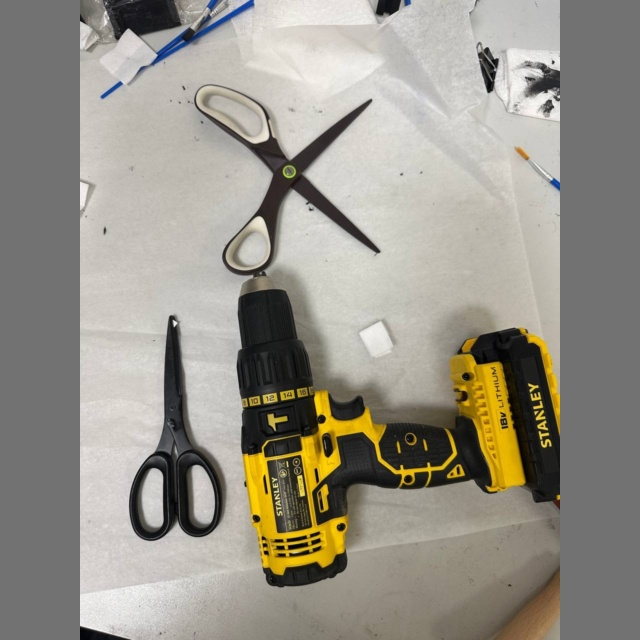drill: (237, 276, 560, 586)
scissor: (194, 84, 379, 275), (129, 316, 223, 540)
